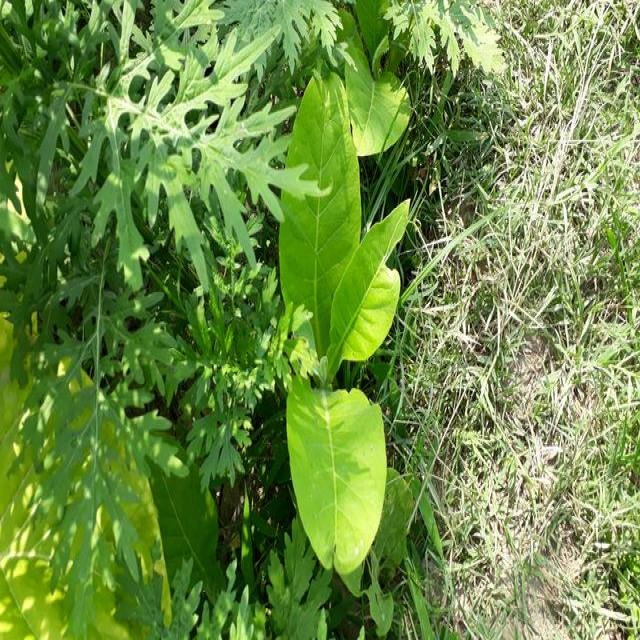crop: (280, 62, 410, 595)
